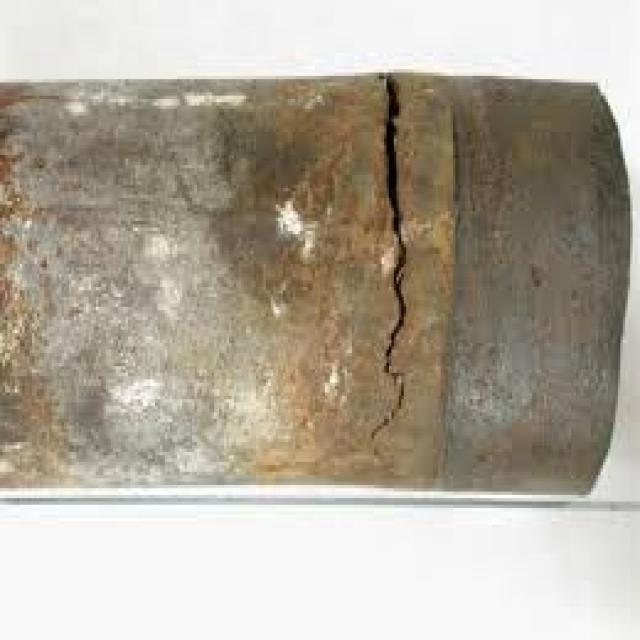crack: (373, 78, 411, 448)
